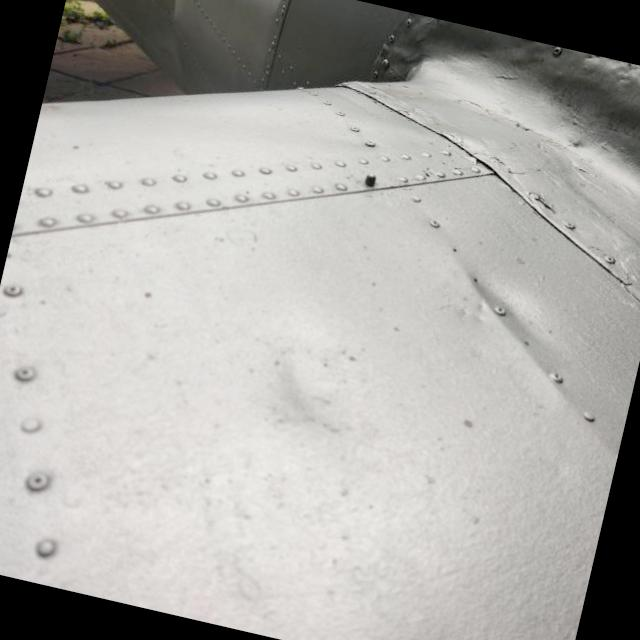dent: (236, 291, 404, 450), (432, 229, 586, 373)
